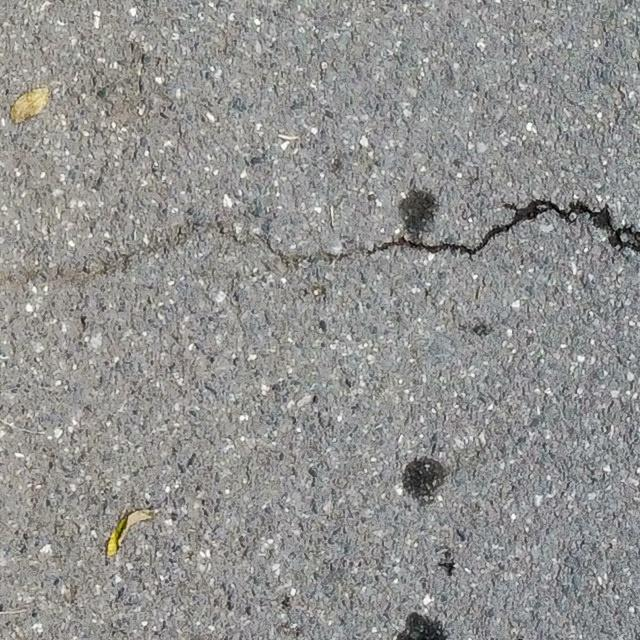TransverseCrack: (263, 196, 640, 264)
